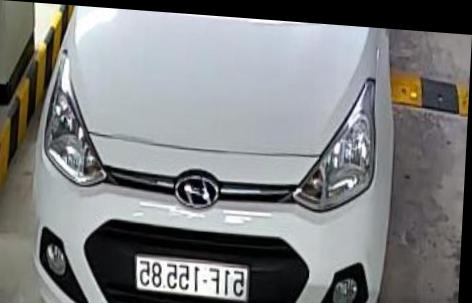License_Plate: (129, 247, 258, 302)
